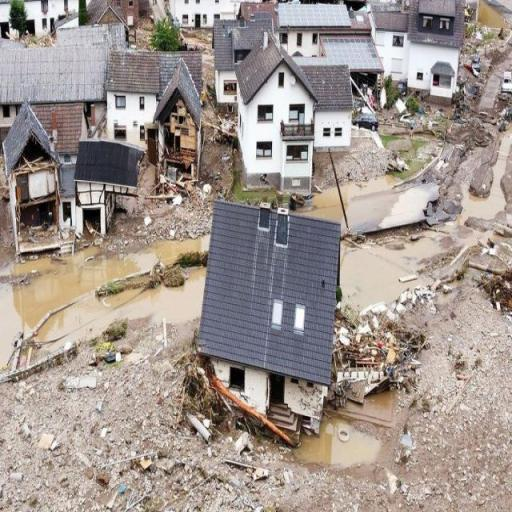flood: (0, 237, 209, 367), (342, 232, 442, 309), (345, 184, 439, 233), (295, 420, 383, 468), (466, 154, 506, 216), (308, 189, 342, 221), (362, 393, 396, 417)
house: (200, 200, 340, 428), (226, 25, 344, 200), (0, 18, 131, 121), (273, 1, 382, 71), (74, 130, 148, 228), (408, 0, 472, 103), (151, 62, 201, 168), (103, 50, 165, 134), (0, 104, 66, 178), (172, 1, 242, 36), (25, 1, 84, 30)
